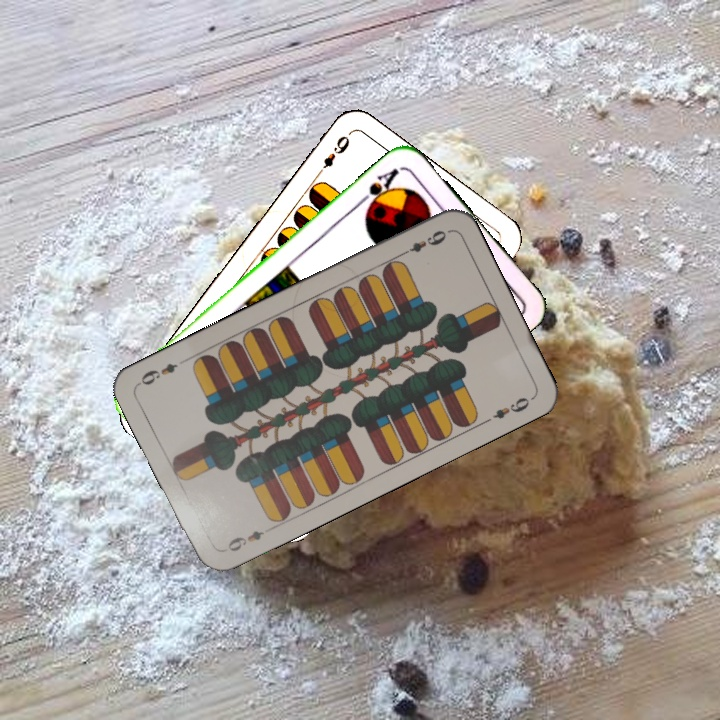E9: (311, 131, 353, 180), (396, 226, 450, 259), (219, 526, 267, 555)
SA: (354, 164, 402, 215)
